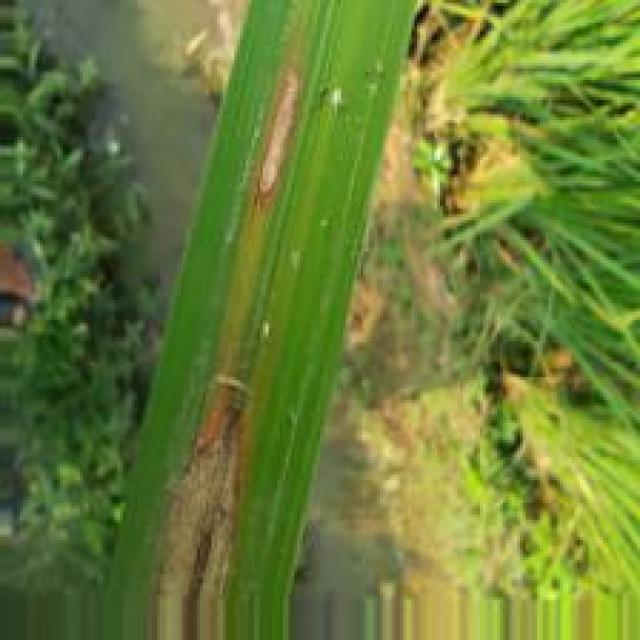Leaf_Blast: (147, 49, 310, 639)
